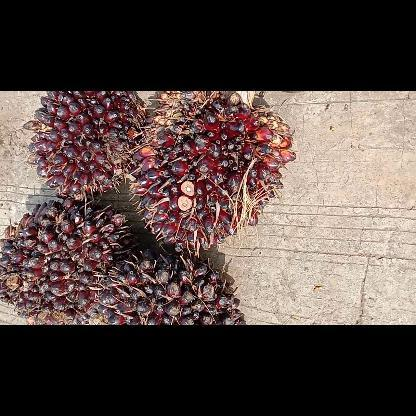TBS mentah: (126, 91, 296, 253), (0, 200, 140, 324), (20, 90, 148, 200), (96, 244, 247, 324)
